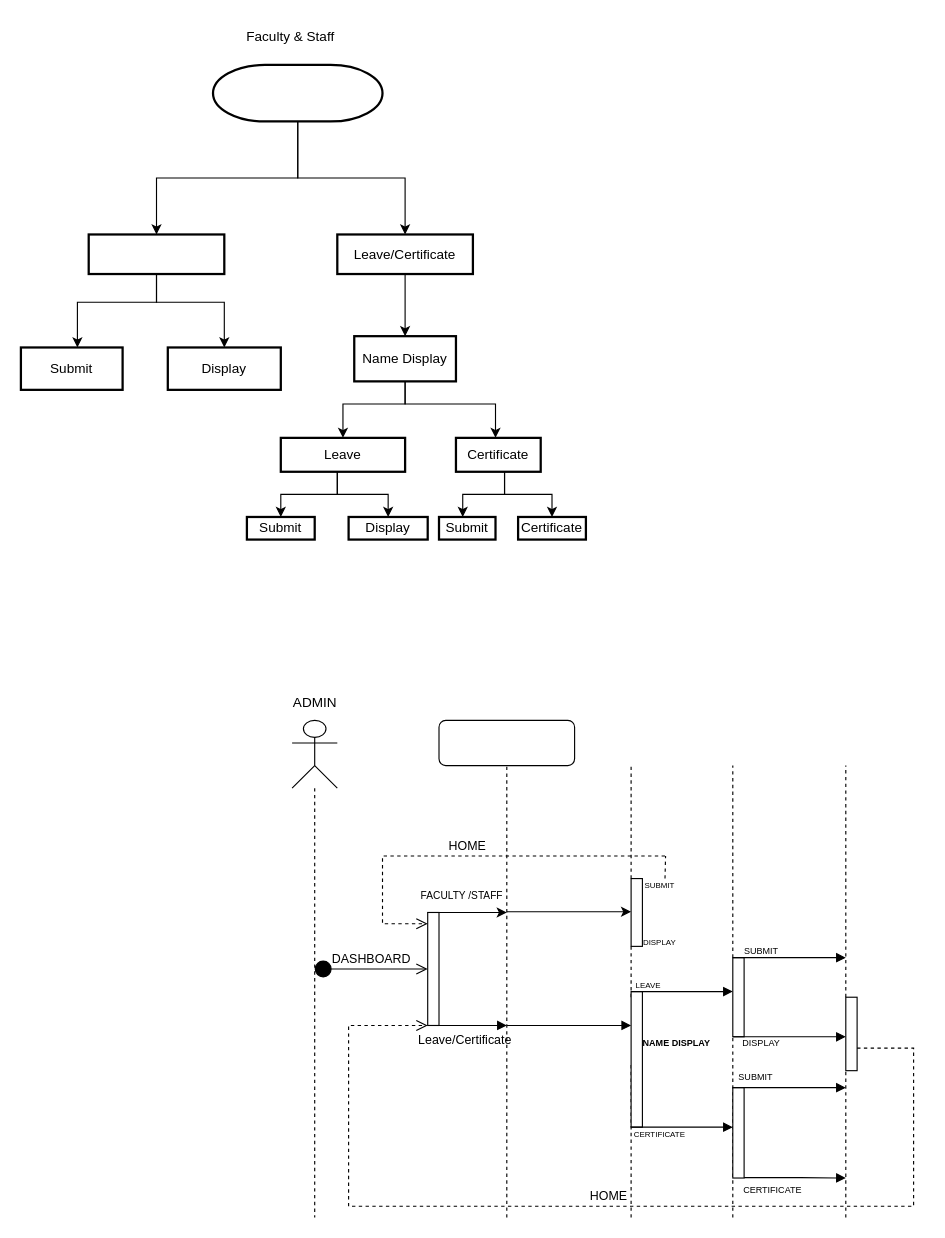
The diagram is 945 pixels wide and 1238 high, and some of its shapes have lost their labels. Each missing label, with the centre of its shape:
"FACULTY/STAFF" goes at (506,742).
"Facuty/Staff" goes at (156,254).
"START" goes at (297,92).
